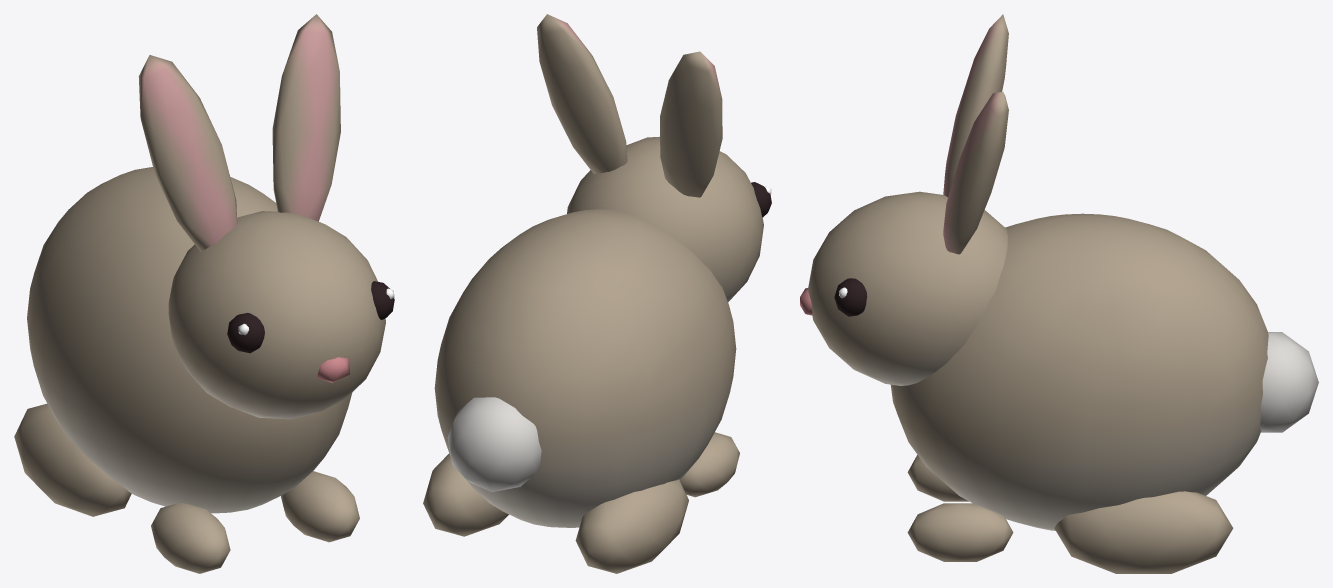
The model's file is critter_rabbit.glb.
3 views of the same model, side by side, from view 1: azimuth 30°, elevation 25°; view 2: azimuth 150°, elevation 25°; view 3: azimuth 270°, elevation 25° (orthographic). The views are drawn at different scales.
Visible parts, largest first — view 1: rabbit_body, rabbit_eye_l, rabbit_eye_r; view 2: rabbit_body; view 3: rabbit_body, rabbit_eye_r.
Boxes of the visible parts, bbox=[...] form: rabbit_body: bbox=[14, 14, 385, 573]; rabbit_eye_l: bbox=[227, 313, 264, 353]; rabbit_eye_r: bbox=[371, 281, 394, 319]; rabbit_body: bbox=[423, 14, 763, 573]; rabbit_body: bbox=[800, 14, 1318, 573]; rabbit_eye_r: bbox=[834, 278, 867, 316].
Bounding box in the file's own units: 0.14 × 0.2606 × 0.2548.
